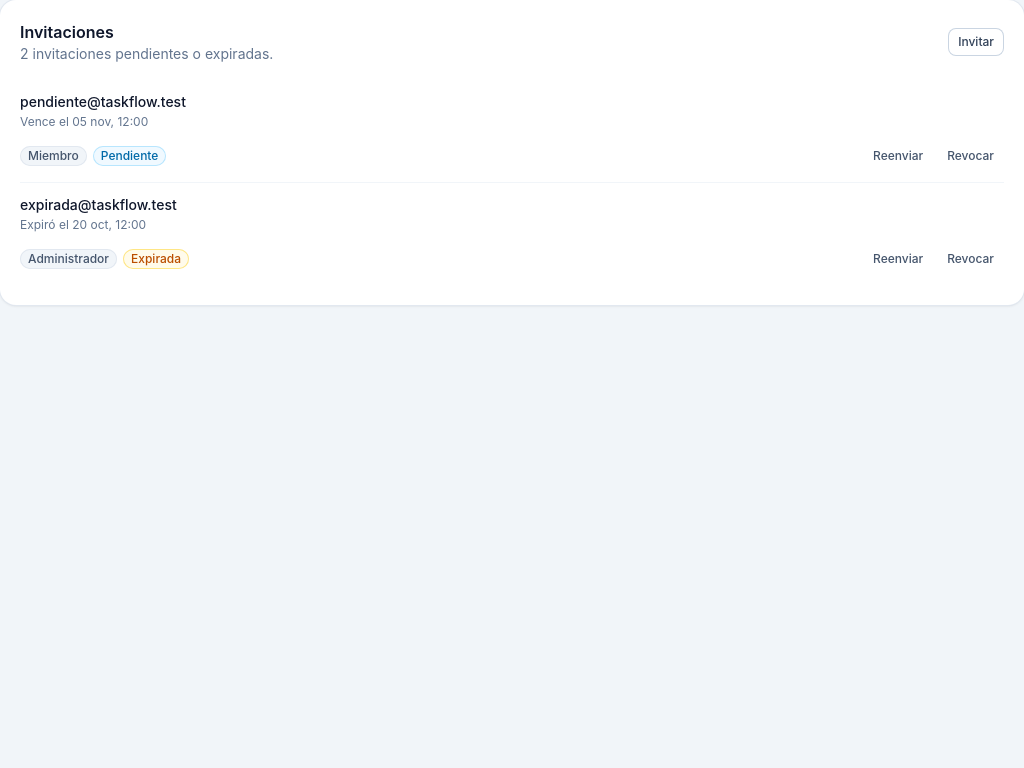
Test case: InvitationsPanel › revokes an invitation after confirmation
Click the button "Revocar" in the row of "Miembro" at (971, 156), box [937, 142, 1004, 170]
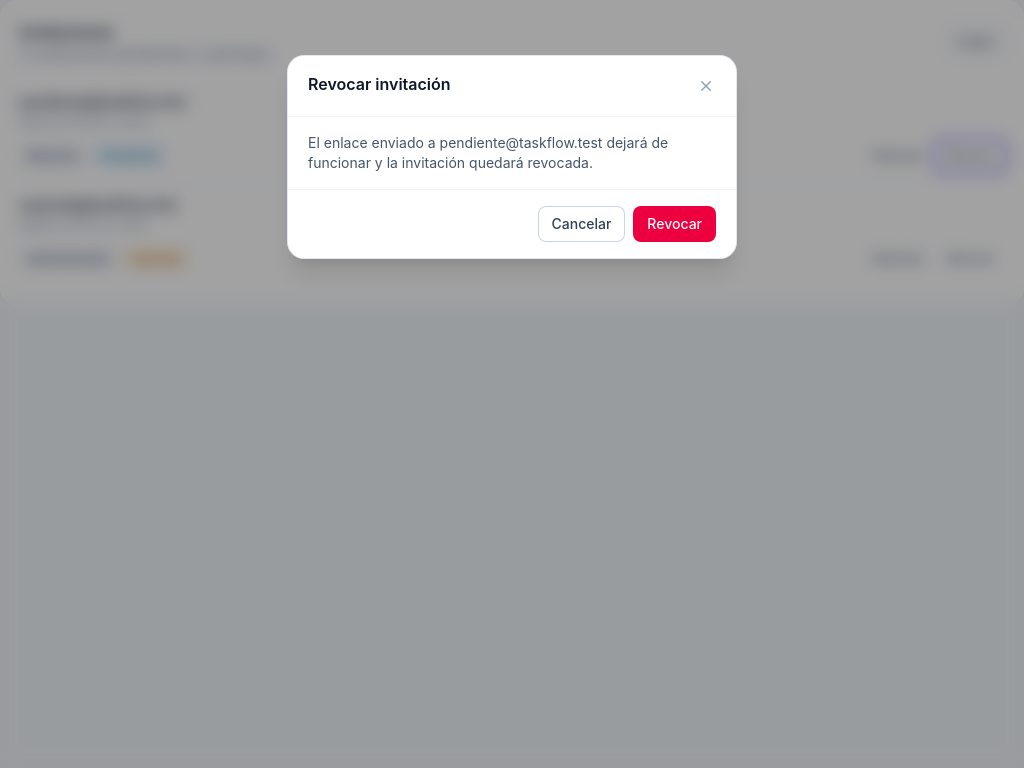
Click the button "Revocar" at (675, 224), box [633, 206, 716, 242]
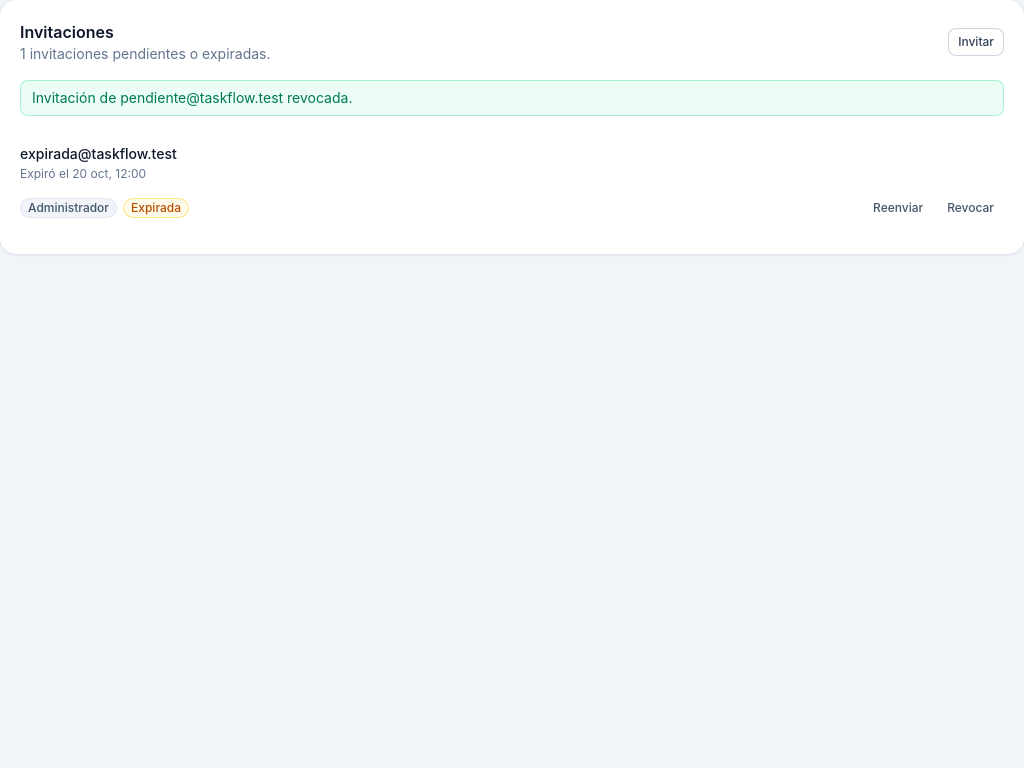
Expected: the text "Invitación de pendiente@taskflow.test revocada." is shown, [20, 80, 1004, 116]
